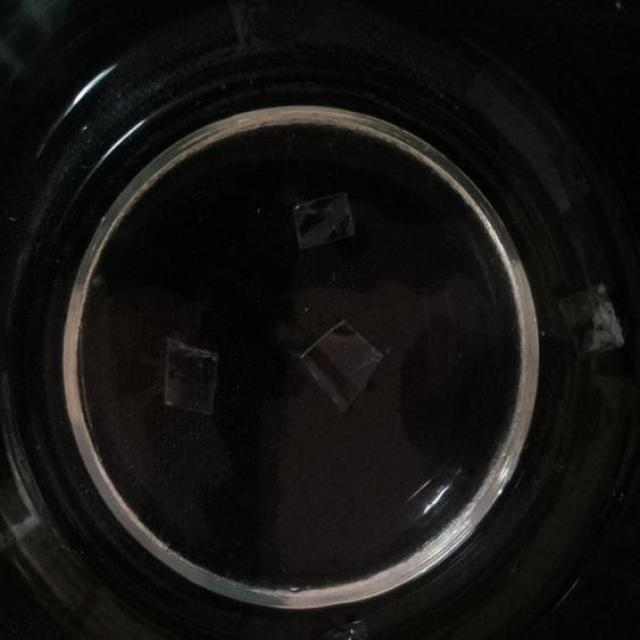fiber: (298, 322, 382, 413), (162, 335, 219, 415), (558, 285, 622, 353), (289, 191, 355, 243)
